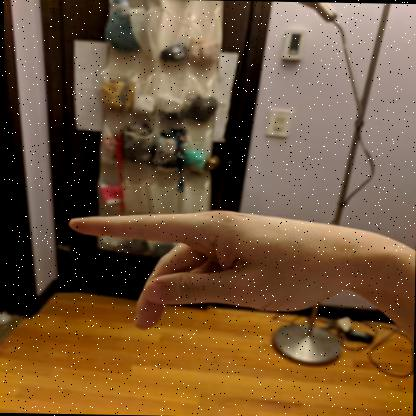P: (68, 210, 354, 329)
